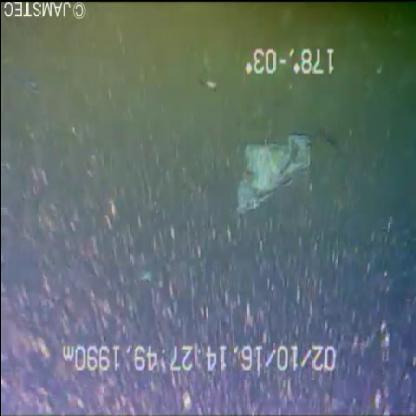Rác: (218, 117, 318, 225), (136, 260, 176, 303)
